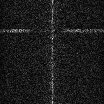wifi: (1, 27, 104, 32)
